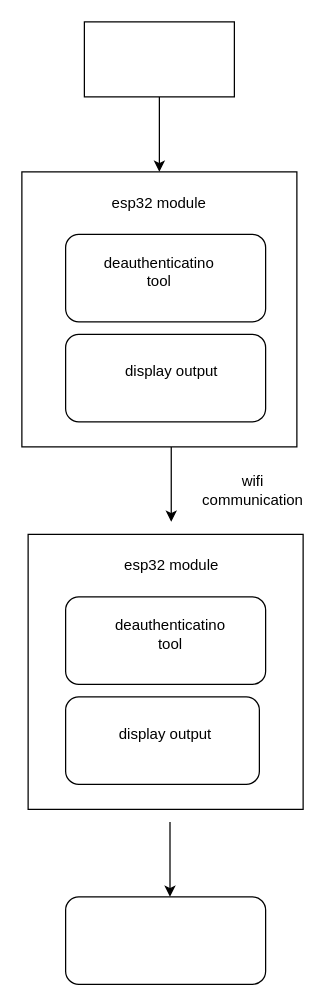
This 331x1006 diagram has some shape labels left out. The box of each missing label's shape, as (x1, y1, x2, y2) in pixels:
user visualization logs, graphs: (64, 896, 266, 984)
wifi signal: (83, 21, 234, 97)
